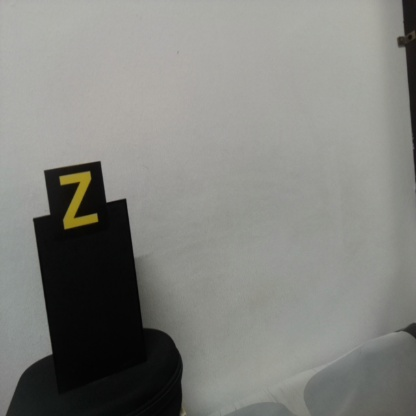id_15: (45, 170, 107, 242)
